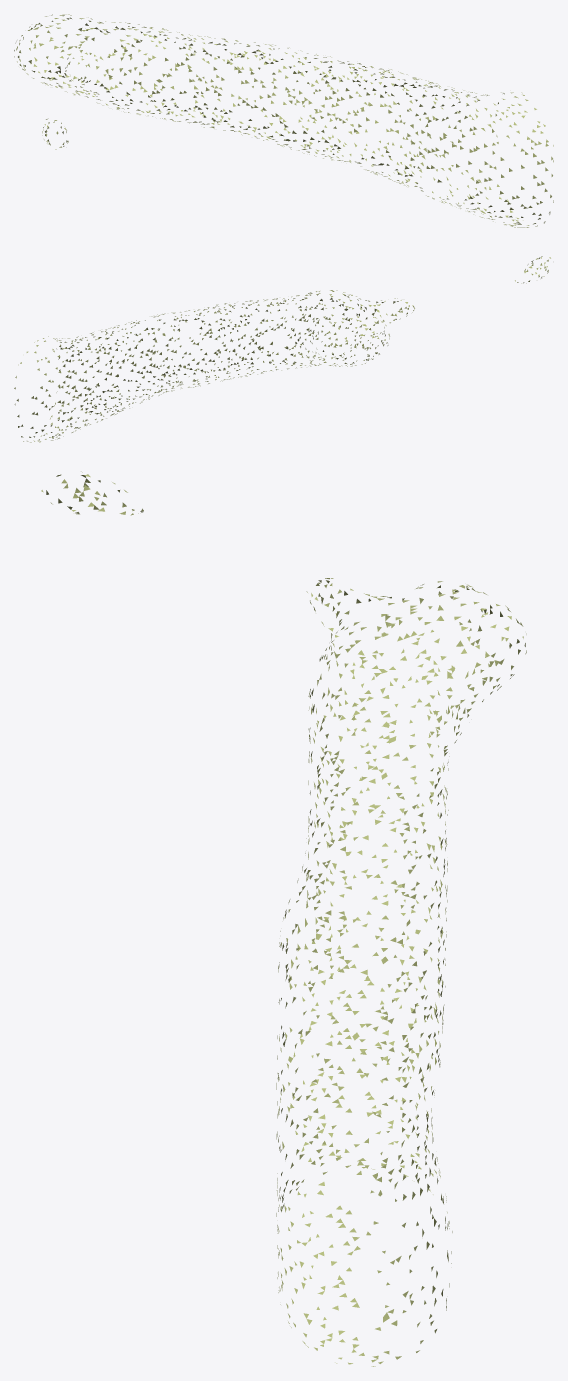
The model's file is morph_010.glb.
3 views of the same model, one above another, from view 1: azimuth 30°, elevation 25°; view 2: azimuth 150°, elevation 25°; view 3: azimuth 270°, elevation 25° (orthographic). The views are drawn at different scales.
Size of the model in its own units: 105 by 53.86 by 50.28.
